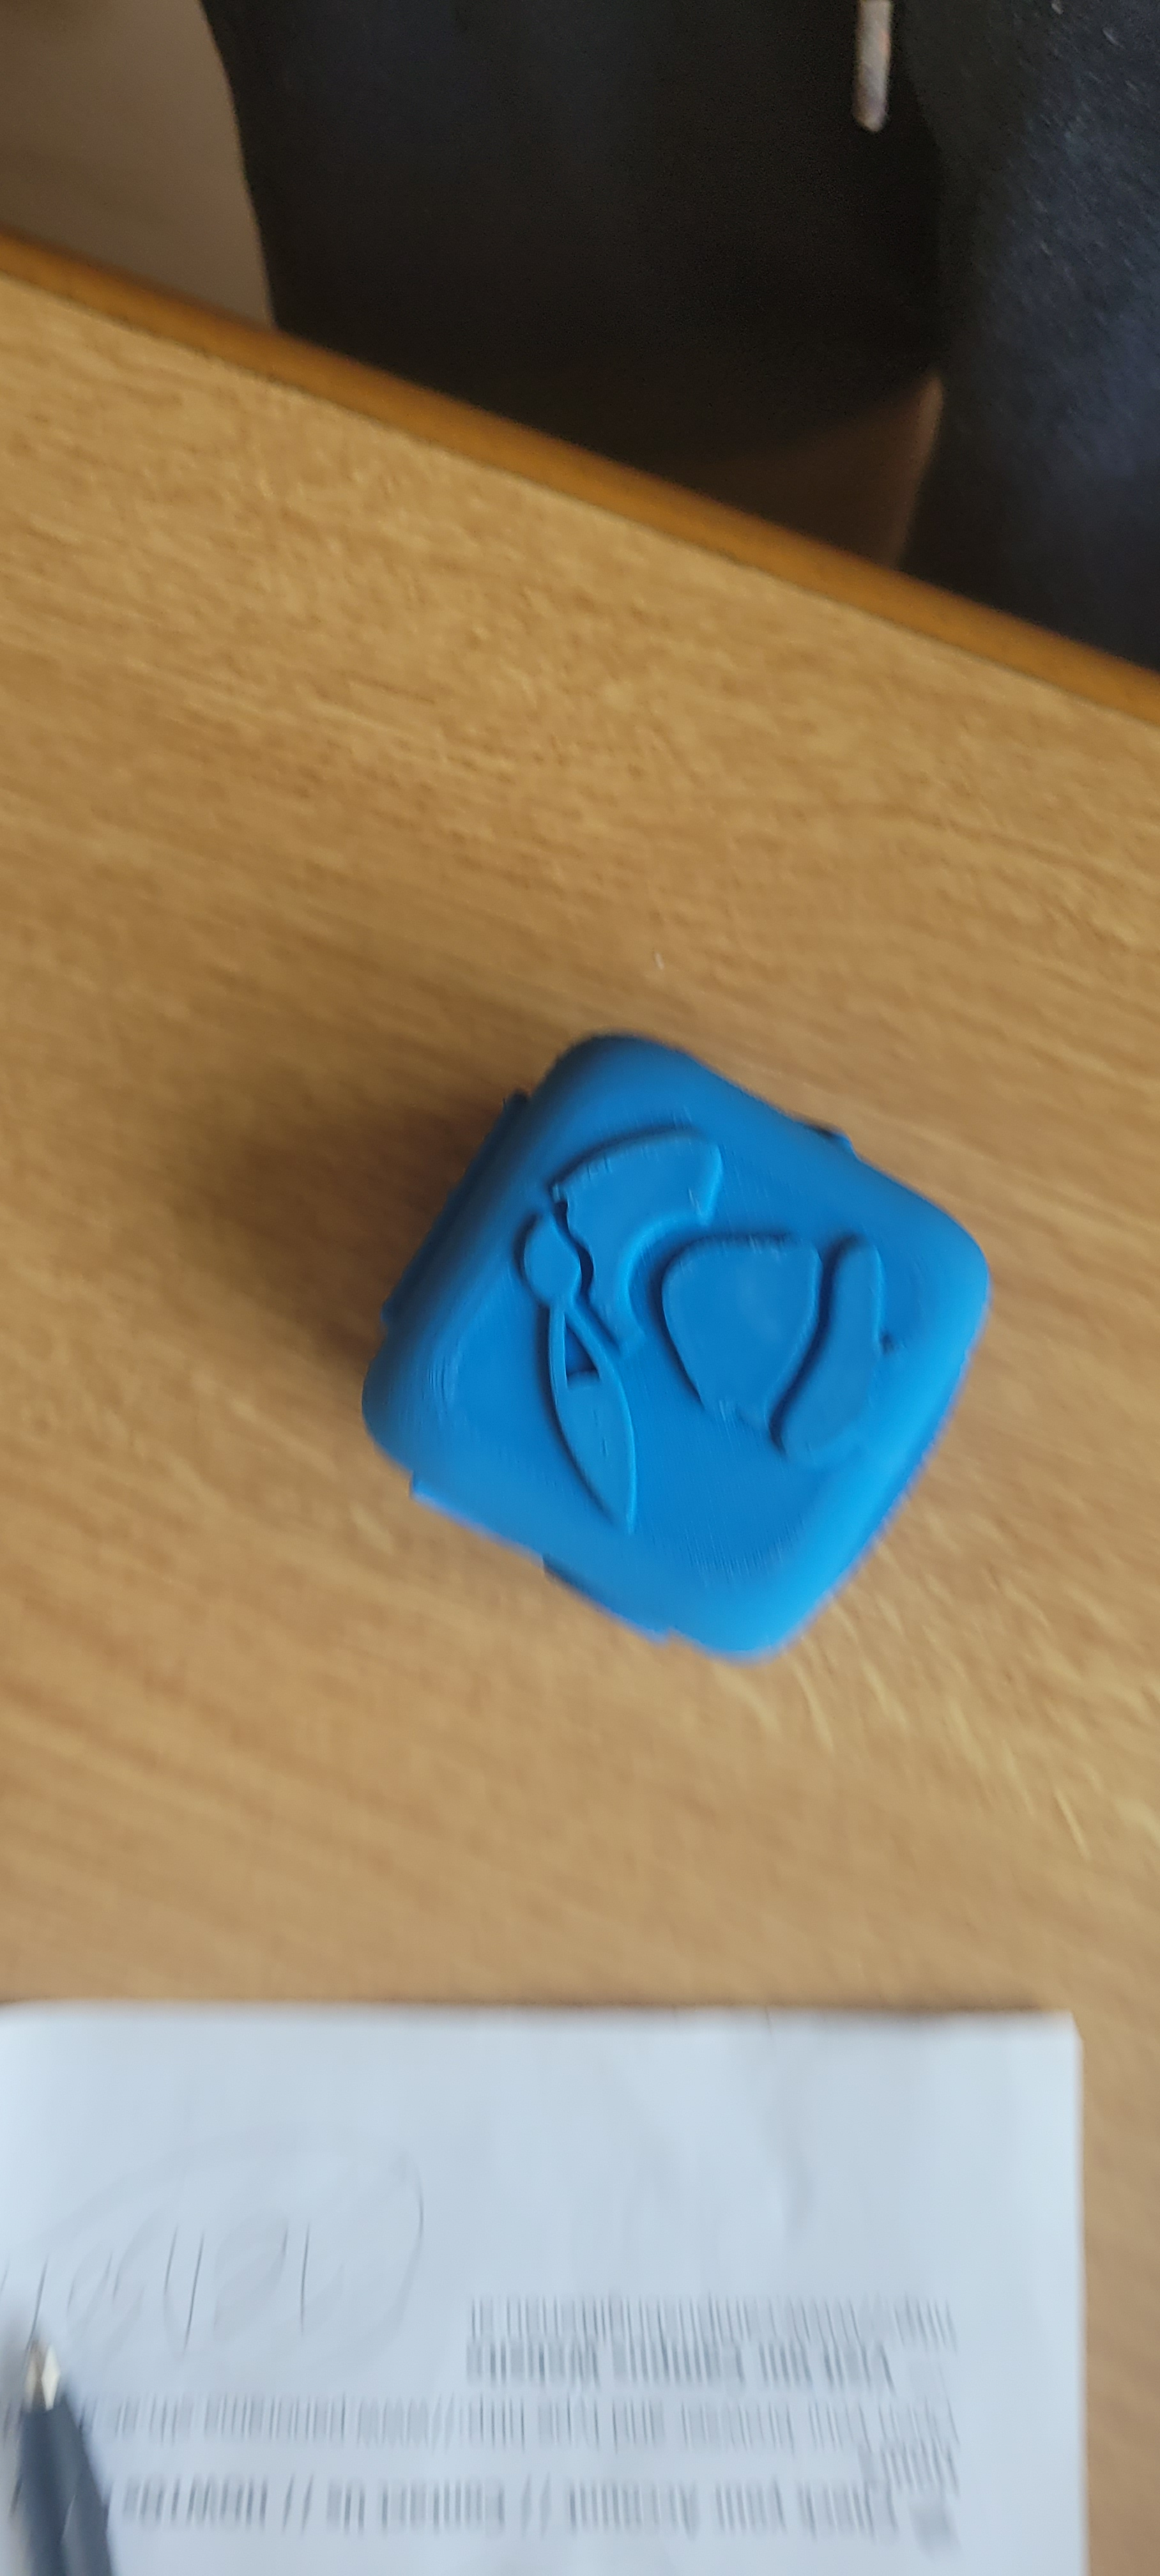Artist_Info: (473, 1024, 989, 1617)
